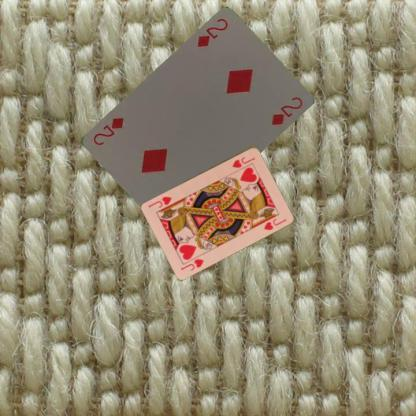2d: (194, 16, 230, 49)
Jh: (178, 256, 205, 272), (229, 154, 256, 168)
